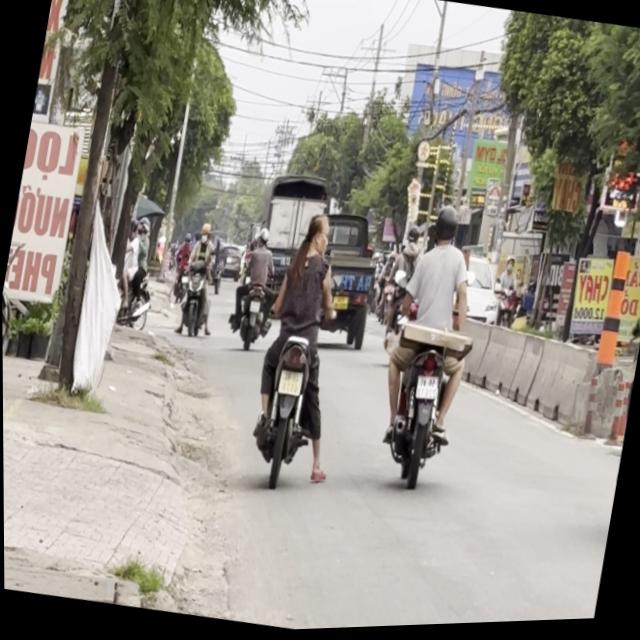helmet: (433, 205, 462, 249)
licenseplate: (363, 198, 498, 497), (239, 202, 363, 495)
motorcyclist: (302, 212, 333, 259)
nohelmet: (414, 376, 440, 404), (278, 370, 303, 399)
